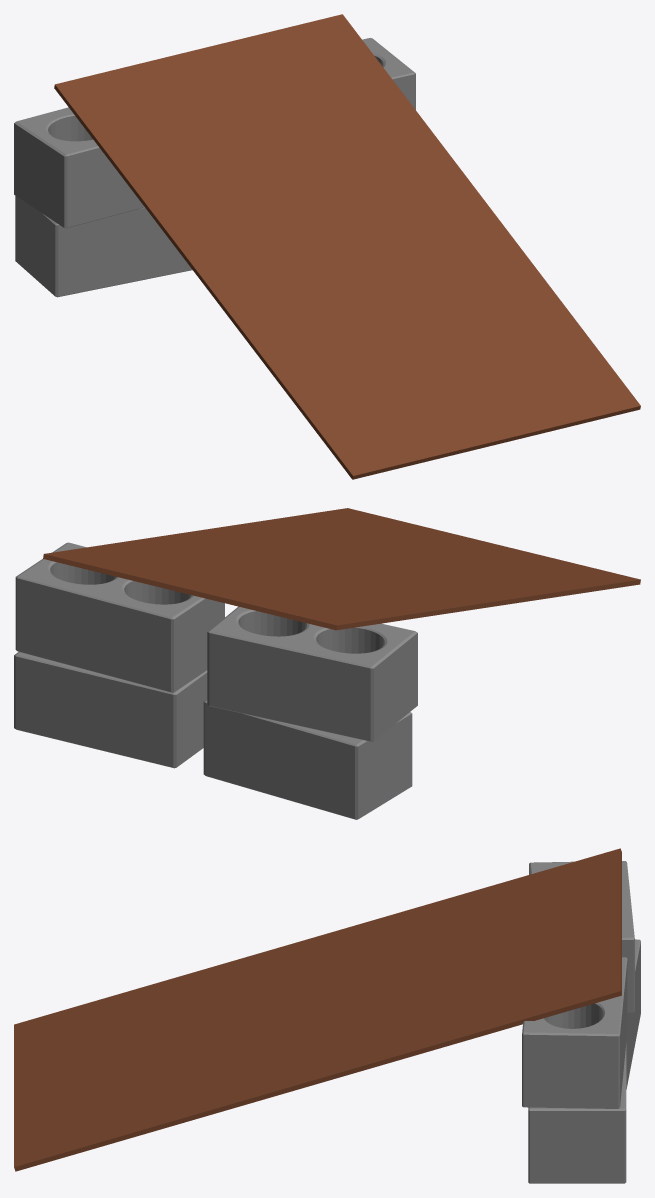
Rendered from Ramp.fbx.
3 renders of one model, top to bottom at view 1: azimuth 30°, elevation 25°; view 2: azimuth 150°, elevation 25°; view 3: azimuth 270°, elevation 25°, orthographic.
Visible parts, largest first — view 1: Plane, Cube, Cube.003, Cube.002; view 2: Plane, Cube.003, Cube.002, Cube, Cube.001; view 3: Plane, Cube.002, Cube.001, Cube.003, Cube.
Part boxes in pixels (left/top/right/bottom): Plane: left=54, top=14, right=640, bottom=479; Cube: left=15, top=196, right=192, bottom=297; Cube.003: left=14, top=107, right=144, bottom=228; Cube.002: left=362, top=38, right=415, bottom=109; Plane: left=43, top=508, right=640, bottom=630; Cube.003: left=207, top=606, right=417, bottom=741; Cube.002: left=15, top=542, right=224, bottom=692; Cube: left=203, top=699, right=412, bottom=819; Cube.001: left=14, top=652, right=207, bottom=768; Plane: left=14, top=848, right=621, bottom=1171; Cube.002: left=522, top=957, right=627, bottom=1108; Cube.001: left=528, top=1044, right=626, bottom=1183; Cube.003: left=529, top=861, right=634, bottom=1012; Cube: left=626, top=939, right=640, bottom=1089.
Bounding box in the file's own units: 247 × 118 × 371.
